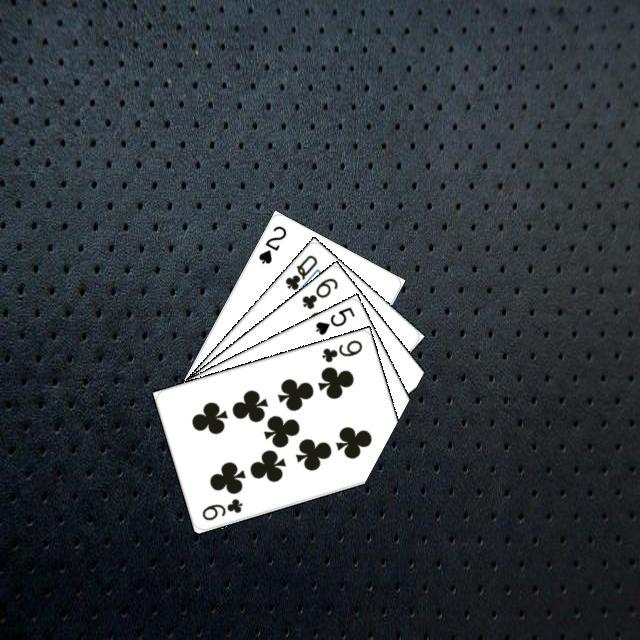2s: (253, 221, 288, 266)
5s: (310, 302, 357, 337)
6c: (297, 273, 340, 311)
9c: (317, 335, 364, 364), (197, 493, 244, 522)
Qc: (280, 250, 322, 300)
